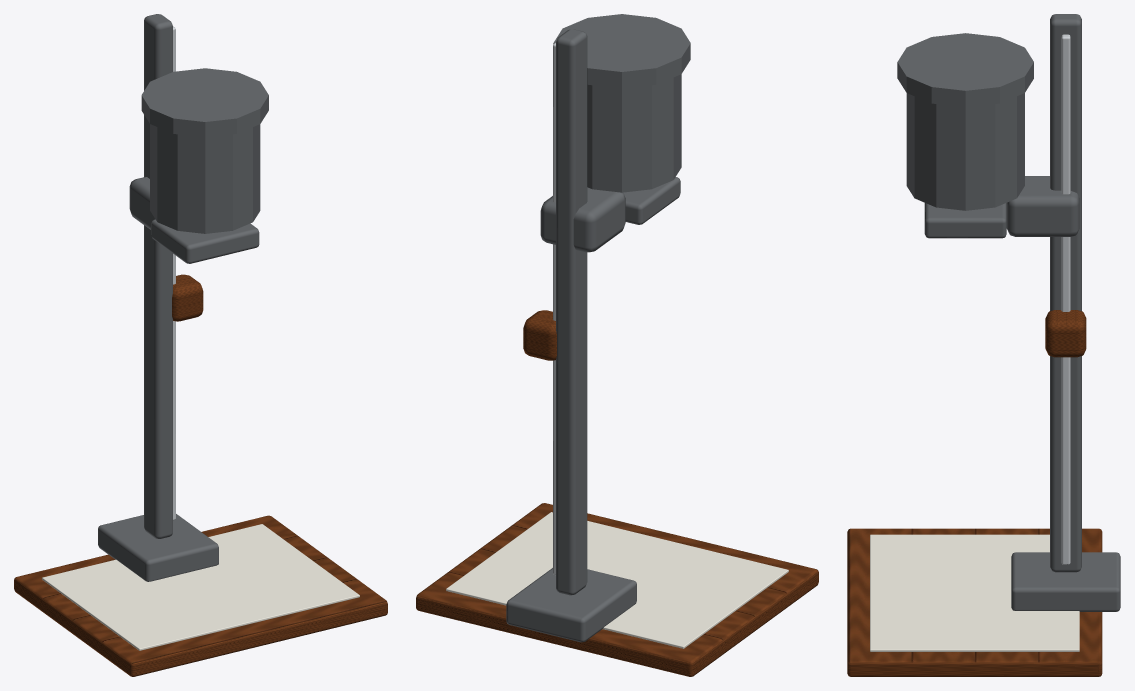
File: printing-press-and-newspaper-office-photo-enlarger-58b3f020__37763.glb
The picture shows the model from 3 angles, left to right: view 1: azimuth 30°, elevation 25°; view 2: azimuth 150°, elevation 25°; view 3: azimuth 270°, elevation 25°; orthographic projection. The views are drawn at different scales.
Visible parts, largest first — view 1: photo-enlarger, head/iron; view 2: photo-enlarger, head/iron; view 3: photo-enlarger, head/iron.
Part boxes in pixels (box(x1,y1,x2,y2)): photo-enlarger: box(14, 14, 387, 676); head/iron: box(129, 68, 268, 263); photo-enlarger: box(416, 29, 818, 676); head/iron: box(540, 14, 690, 252); photo-enlarger: box(847, 14, 1120, 676); head/iron: box(897, 33, 1079, 238).
Bounding box in the file's own units: 0.7 × 1.44 × 0.6.
5 materials, 1 textured.
